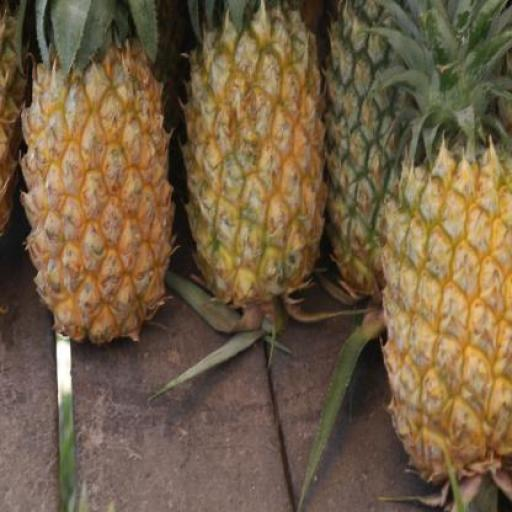------------------------------: (177, 6, 324, 289)
Pineapple - v8 v1: (20, 39, 170, 340), (381, 141, 512, 472)
